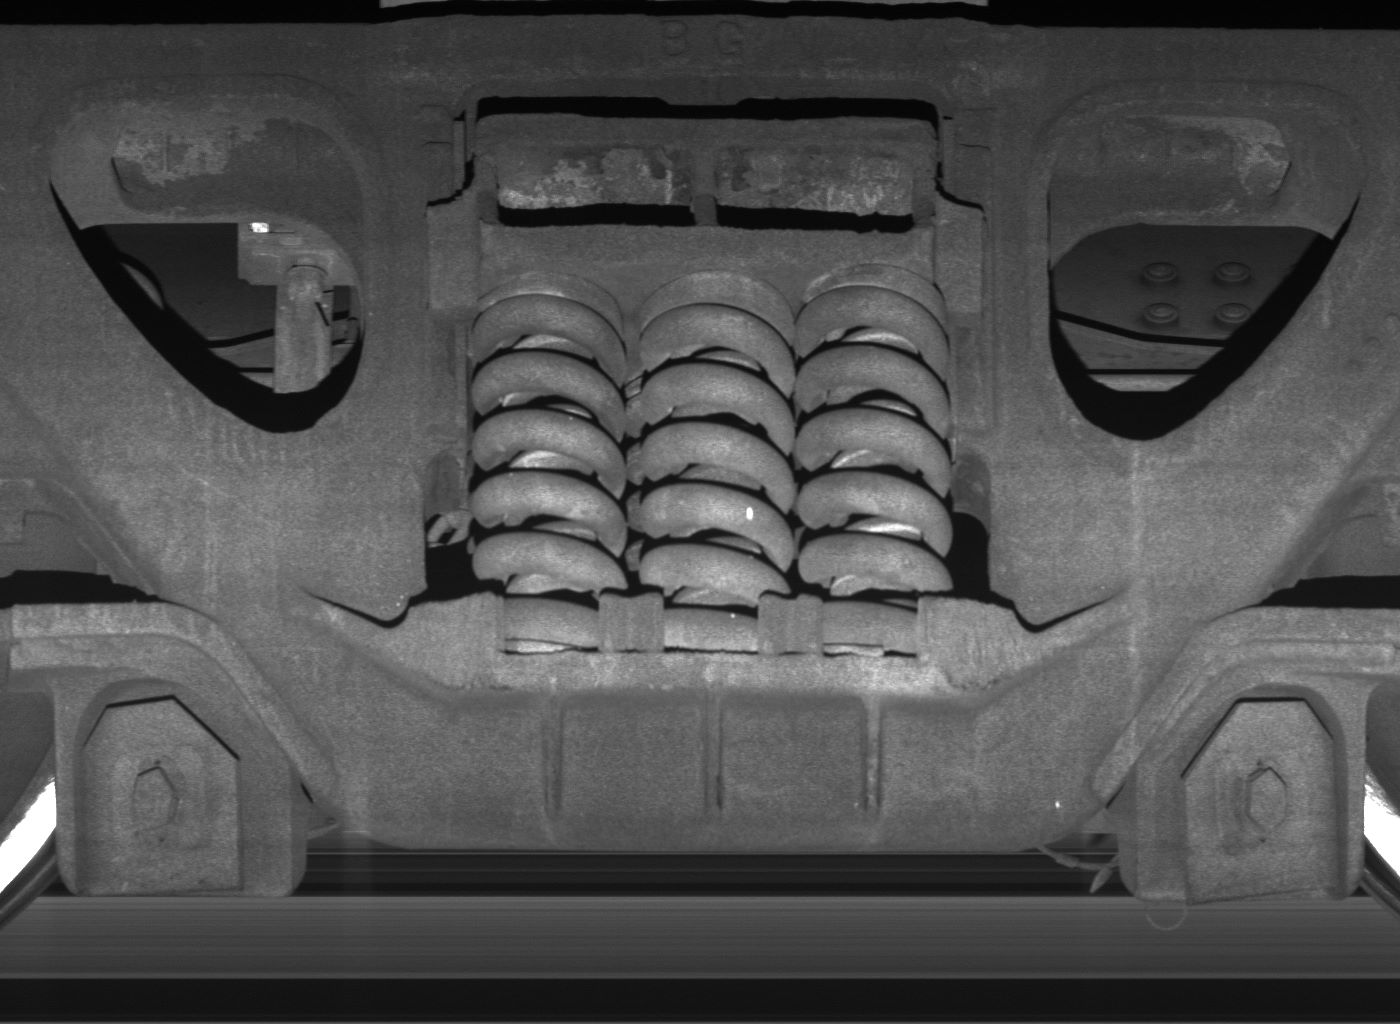Locking plate: (1141, 682, 1359, 906)
normal: (55, 678, 289, 898)
